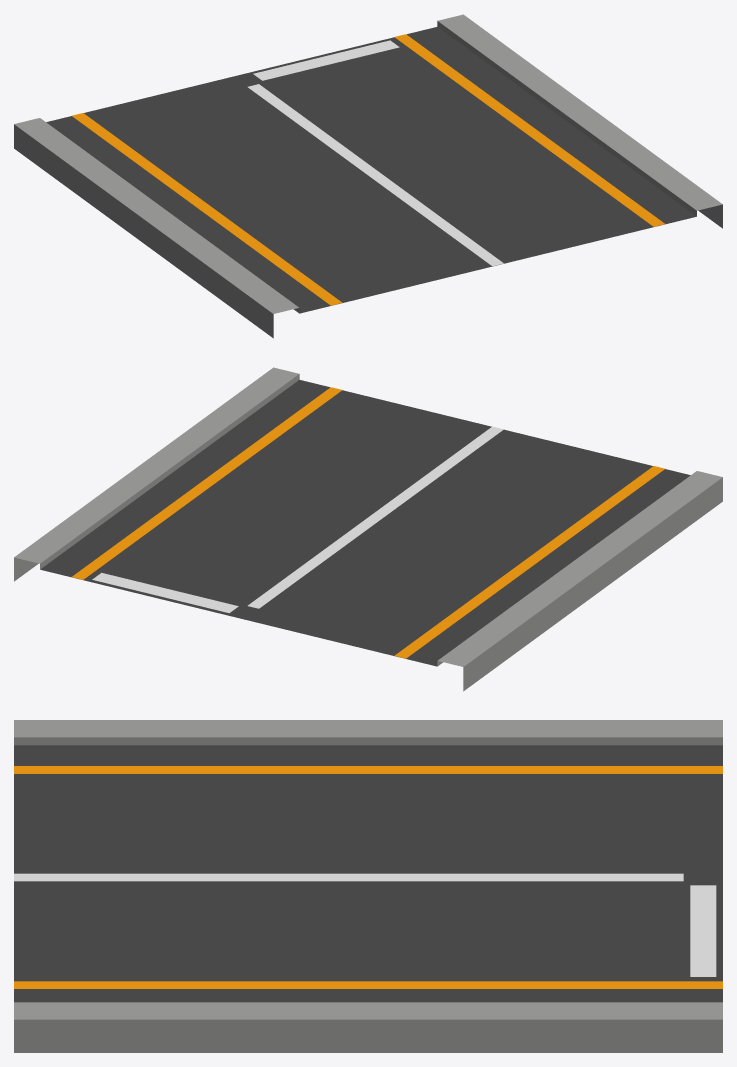
File: Road_A_15.fbx
3 renders of one model, top to bottom at view 1: azimuth 30°, elevation 25°; view 2: azimuth 150°, elevation 25°; view 3: azimuth 270°, elevation 25°, orthographic. The views are drawn at different scales.
Parts seen in each view (by area): view 1: Road_A_15; view 2: Road_A_15; view 3: Road_A_15.
Part boxes in pixels (bbox=[...]): Road_A_15: bbox=[14, 14, 722, 338]; Road_A_15: bbox=[14, 367, 722, 691]; Road_A_15: bbox=[14, 720, 722, 1052].
Size of the model in its own units: 800 by 41.48 by 800.
